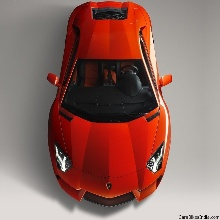no damage: (47, 1, 173, 209)
